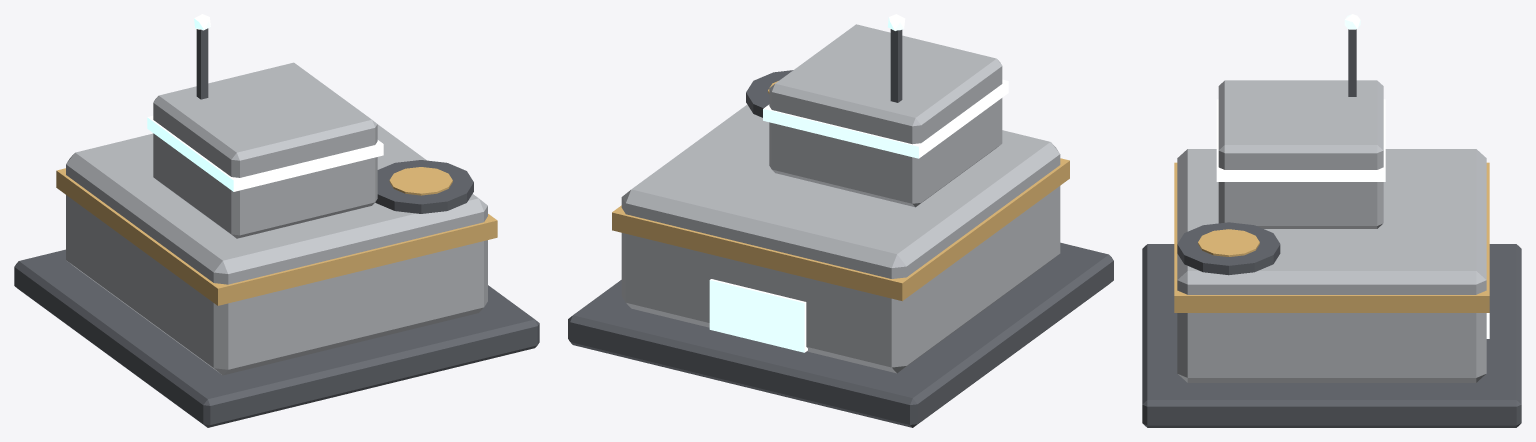
Rendered from command_center.glb.
The picture shows the model from 3 angles, left to right: view 1: azimuth 30°, elevation 25°; view 2: azimuth 150°, elevation 25°; view 3: azimuth 270°, elevation 25°; orthographic projection. The views are drawn at different scales.
Parts seen in each view (by area): view 1: slab; view 2: slab; view 3: slab.
Boxes of the visible parts, box(x1,y1,x2,y2) form: slab: box(14, 14, 539, 427); slab: box(568, 14, 1113, 427); slab: box(1142, 14, 1521, 427).
Bounding box in the file's own units: 3.68 × 3.27 × 3.68.
